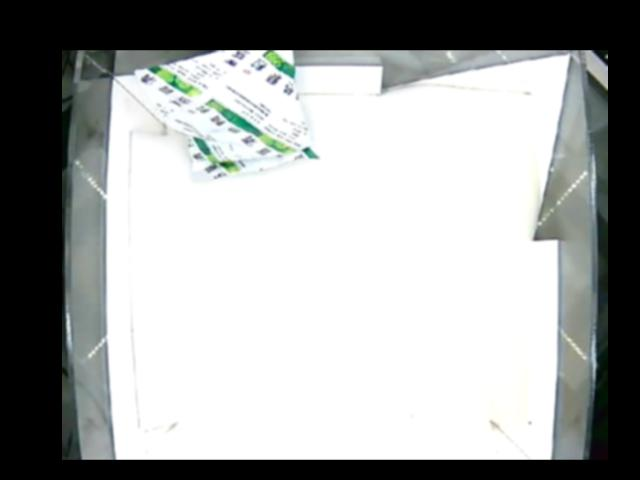Medicine: (132, 51, 319, 186)
